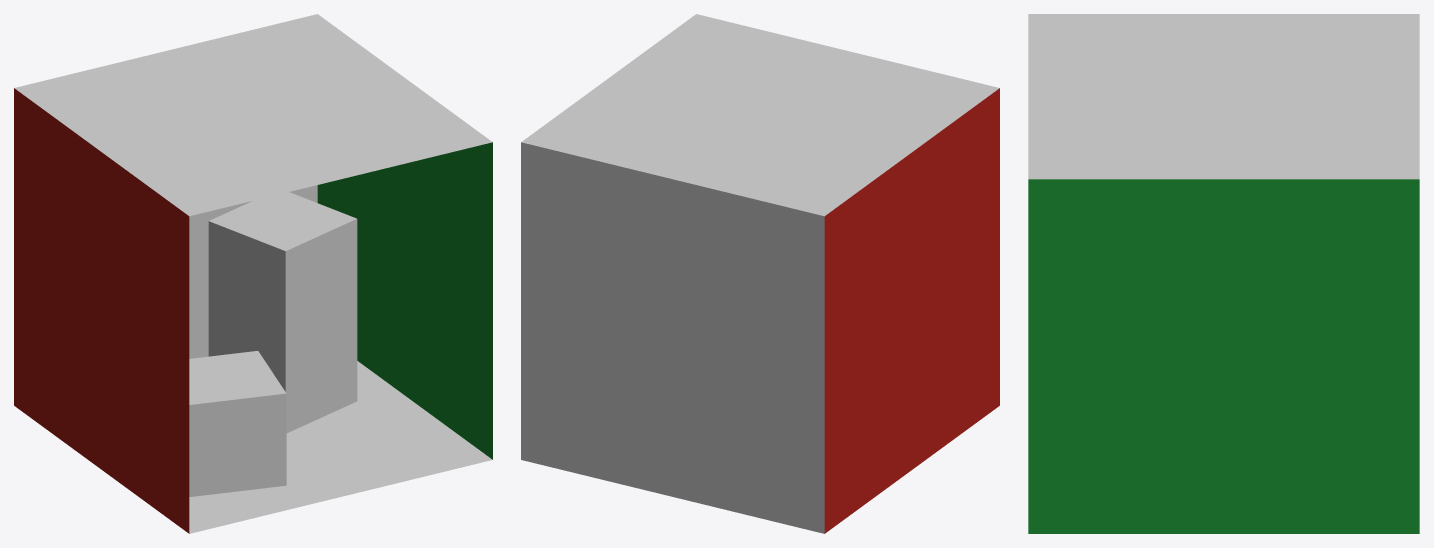
Rendered from CornellBox.glb.
3 views of the same model, side by side, from view 1: azimuth 30°, elevation 25°; view 2: azimuth 150°, elevation 25°; view 3: azimuth 270°, elevation 25° (orthographic). The views are drawn at different scales.
Bounding box in the file's own units: 2 × 2 × 2.
1 material, 1 textured.
